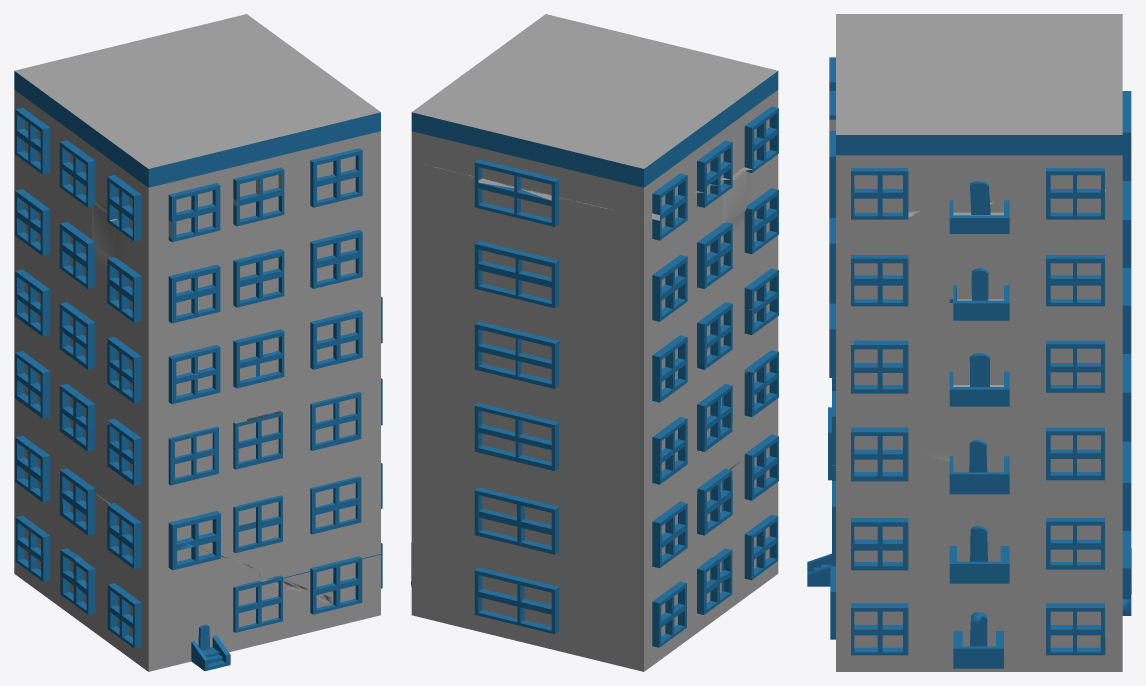
Rendered from Condo V2.fbx.
The picture shows the model from 3 angles, left to right: view 1: azimuth 30°, elevation 25°; view 2: azimuth 150°, elevation 25°; view 3: azimuth 270°, elevation 25°; orthographic projection. The views are drawn at different scales.
Parts seen in each view (by area): view 1: polySurface408, polySurface391, polySurface407, polySurface389, polySurface399; view 2: polySurface408, polySurface407, polySurface399, polySurface391, polySurface389; view 3: polySurface391, polySurface408, polySurface399, polySurface407, polySurface389.
Boxes of the visible parts, x1=… form: polySurface408: x1=14, y1=14, x2=380, y2=248; polySurface391: x1=14, y1=369, x2=382, y2=615; polySurface407: x1=14, y1=119, x2=382, y2=387; polySurface389: x1=14, y1=435, x2=378, y2=671; polySurface399: x1=14, y1=259, x2=382, y2=419; polySurface408: x1=411, y1=14, x2=778, y2=217; polySurface407: x1=411, y1=154, x2=778, y2=356; polySurface399: x1=411, y1=275, x2=778, y2=466; polySurface391: x1=411, y1=322, x2=778, y2=617; polySurface389: x1=423, y1=430, x2=778, y2=671; polySurface391: x1=828, y1=378, x2=1131, y2=671; polySurface408: x1=829, y1=14, x2=1131, y2=220; polySurface399: x1=829, y1=268, x2=1131, y2=646; polySurface407: x1=829, y1=154, x2=1131, y2=344; polySurface389: x1=807, y1=459, x2=1131, y2=615.
Size of the model in its own units: 353 by 620 by 339.
